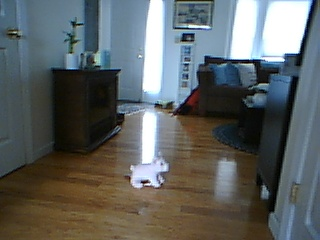piggy: (129, 151, 171, 190)
